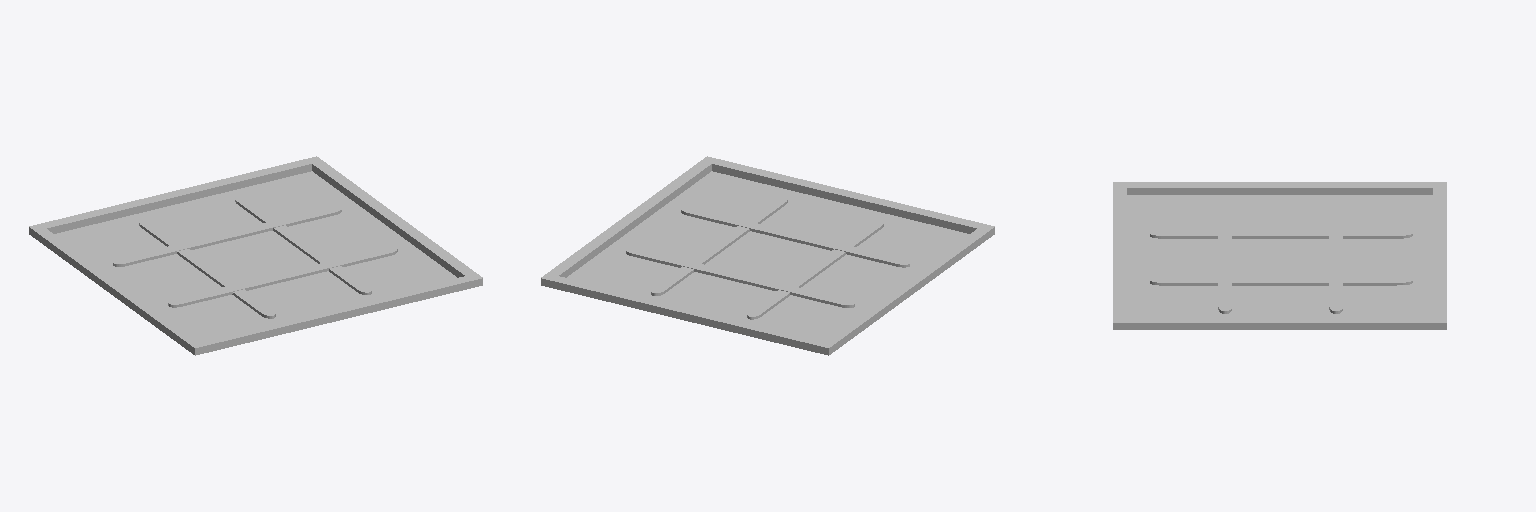
Rendered from FixedBoard.obj.
3 renders of one model, left to right at view 1: azimuth 30°, elevation 25°; view 2: azimuth 150°, elevation 25°; view 3: azimuth 270°, elevation 25°, orthographic.
Visible parts, largest first — view 1: Plane, Circle.002, Circle.003, Circle, Circle.001; view 2: Plane, Circle.002, Circle.003, Circle.001, Circle; view 3: Plane, Circle, Circle.001, Circle.002, Circle.003.
Boxes of the visible parts, <box> form: Plane: <box>29,156,482,355</box>; Circle.002: <box>168,247,397,307</box>; Circle.003: <box>113,206,341,266</box>; Circle: <box>139,219,275,318</box>; Circle.001: <box>235,196,371,294</box>; Plane: <box>541,156,994,355</box>; Circle.002: <box>681,207,909,267</box>; Circle.003: <box>626,248,854,307</box>; Circle.001: <box>651,197,787,295</box>; Circle: <box>747,220,883,319</box>; Plane: <box>1113,182,1446,329</box>; Circle: <box>1150,230,1412,238</box>; Circle.001: <box>1150,277,1412,285</box>; Circle.002: <box>1218,200,1231,313</box>; Circle.003: <box>1329,200,1342,313</box>.
Bounding box in the file's own units: 6 × 0.1459 × 6.